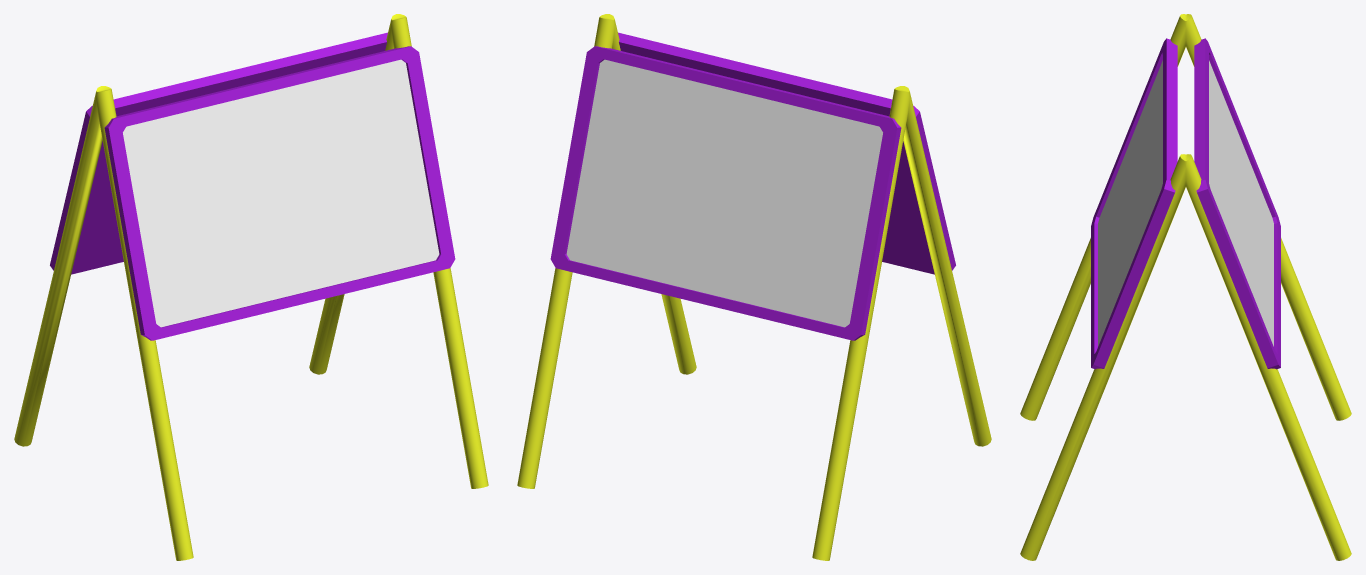
The model's file is desk.fbx.
The picture shows the model from 3 angles, left to right: view 1: azimuth 30°, elevation 25°; view 2: azimuth 150°, elevation 25°; view 3: azimuth 270°, elevation 25°; orthographic projection. The views are drawn at different scales.
Visible parts, largest first — view 1: Box017; view 2: Box017; view 3: Box017.
Boxes of the visible parts, left/top/right/bottom form: Box017: left=14, top=14, right=488, bottom=560; Box017: left=517, top=14, right=991, bottom=560; Box017: left=1020, top=14, right=1351, bottom=560.
Size of the model in its own units: 126 by 160 by 119.
